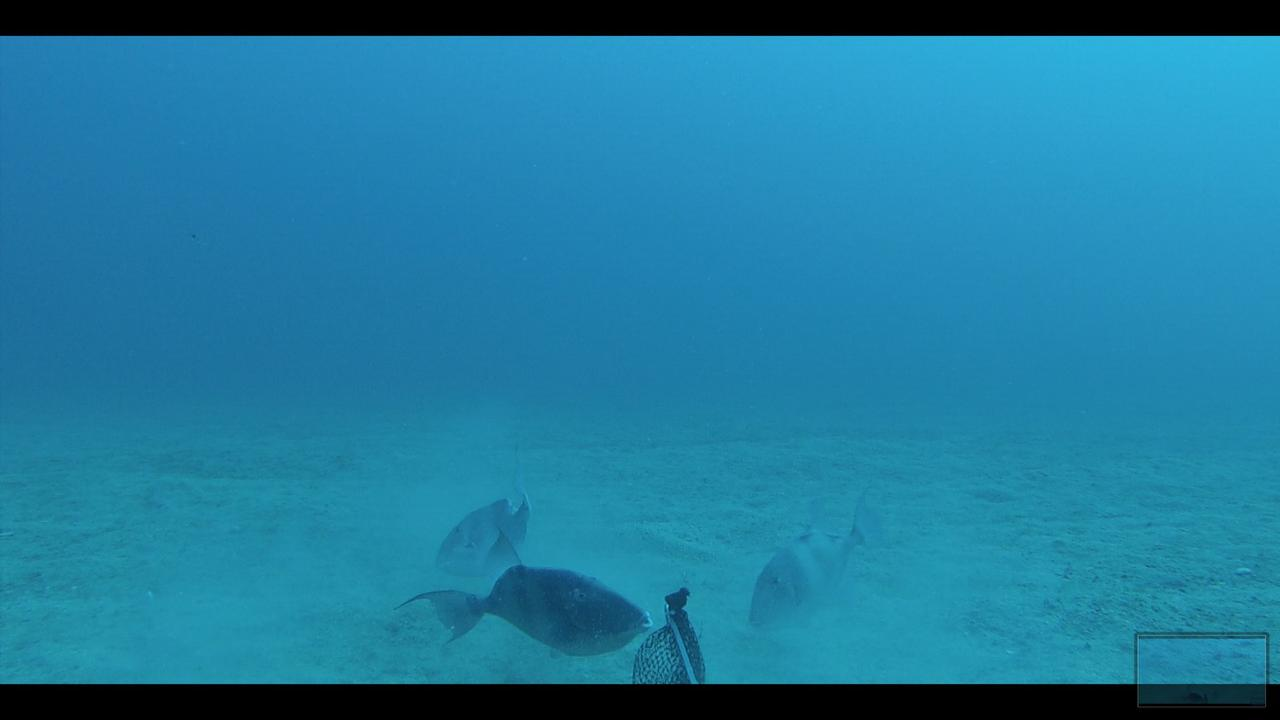balistes: (392, 521, 653, 658), (743, 482, 903, 634), (429, 444, 535, 578)
